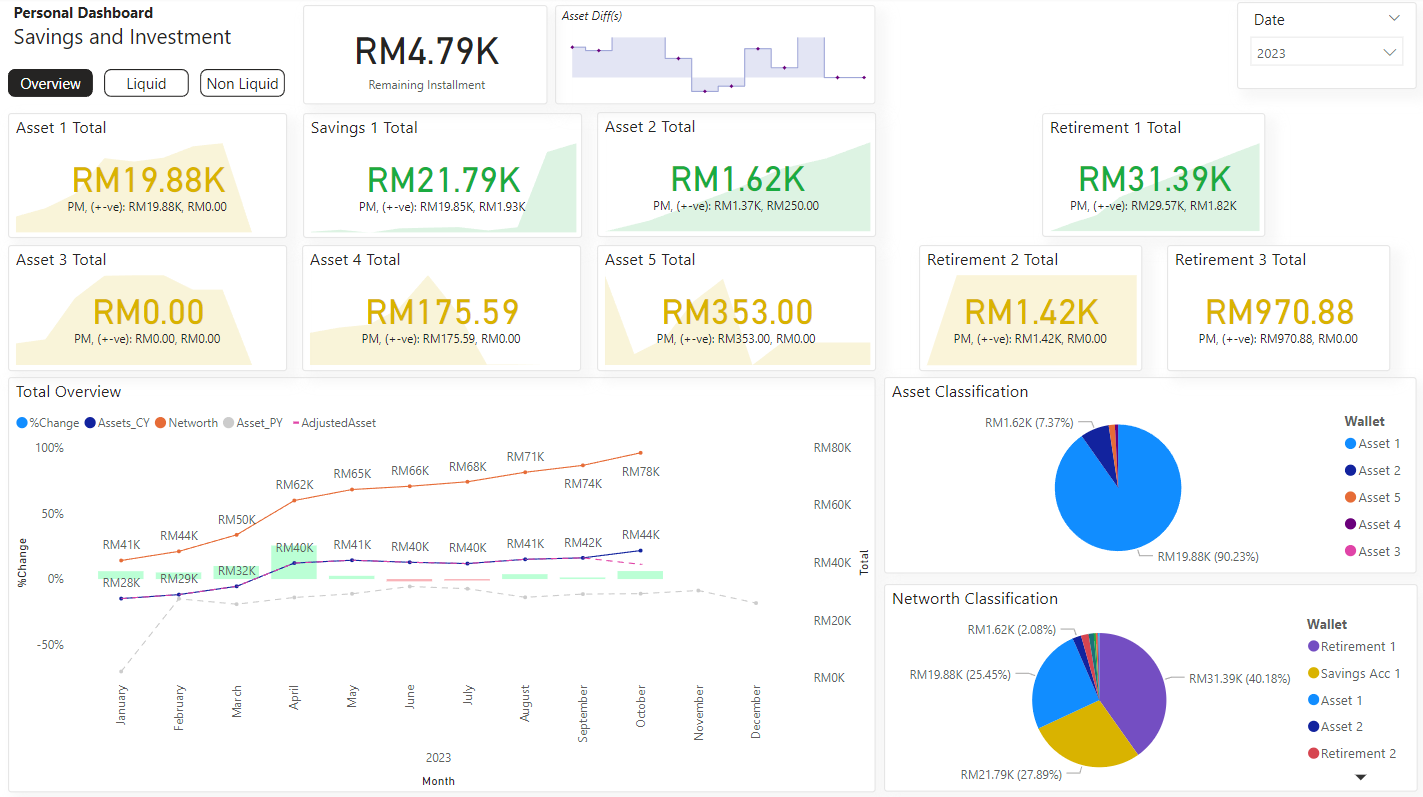

The page's visual inventory and layout, read from the dashboard file:
{"tool":"powerbi","page":{"name":"Savings + Investment","canvas":[1280,720],"ordinal":1},"visuals":[{"type":"textbox","box":[8,0,271,64.4],"z":0},{"type":"slicer","title":"Slicer2","fields":{"Values":["CentralDate_NoAdd.Date.Variation.Date Hierarchy.Year","CentralDate_NoAdd.Date.Variation.Date Hierarchy.Month"]},"box":[1109.1,4.5,161,77.8],"z":1000},{"type":"lineStackedColumnComboChart","title":"Total Overview","fields":{"Y2":["Calc Table.NetWorth","Calc_SavingsInvestment.NetWorth_ALL","Calc_SavingsInvestment.NetWorth_PY","Calc_SavingsInvestment.AdjustedAsset"],"Y":["Calc Table.%Change_NetWorth"],"Category":["CentralDate_NoAdd.Date.Variation.Date Hierarchy.Year","CentralDate_NoAdd.Date.Variation.Date Hierarchy.Month"]},"box":[8,339.9,777.2,372.1],"z":2000},{"type":"kpi","title":"Asset 1 Total","fields":{"Indicator":["Calc_SavingsInvestment.DAX_TEST"],"Goal":["Calc_SavingsInvestment.Cumulative_LM","Calc_SavingsInvestment.Cumulative_LMDIFF"],"TrendLine":["CentralDate_NoAdd.Date.Variation.Date Hierarchy.Month"]},"box":[8.2,103.7,250,112.2],"z":9000},{"type":"kpi","title":"Asset 2 Total","fields":{"Indicator":["Calc_SavingsInvestment.Cumulative_TM"],"Goal":["Calc_SavingsInvestment.Cumulative_LM","Calc_SavingsInvestment.Cumulative_LMDIFF"],"TrendLine":["CentralDate_NoAdd.Date.Variation.Date Hierarchy.Month"]},"box":[535.4,103.3,250,112],"z":10000},{"type":"kpi","title":"Savings 1 Total","fields":{"Indicator":["Calc_SavingsInvestment.Cumulative_TM"],"Goal":["Calc_SavingsInvestment.Cumulative_LM","Calc_SavingsInvestment.Cumulative_LMDIFF"],"TrendLine":["CentralDate_NoAdd.Date.Variation.Date Hierarchy.Month"]},"box":[271.9,103.7,250,112.2],"z":11000},{"type":"kpi","title":"Asset 5 Total","fields":{"Indicator":["Calc_SavingsInvestment.Cumulative_TM"],"Goal":["Calc_SavingsInvestment.Cumulative_LM","Calc_SavingsInvestment.Cumulative_LMDIFF"],"TrendLine":["CentralDate_NoAdd.Date.Variation.Date Hierarchy.Month"]},"box":[535.5,221.7,250,112.5],"z":12000},{"type":"kpi","title":"Asset 4 Total","fields":{"Indicator":["Calc_SavingsInvestment.Cumulative_TM"],"Goal":["Calc_SavingsInvestment.Cumulative_LM","Calc_SavingsInvestment.Cumulative_LMDIFF"],"TrendLine":["CentralDate_NoAdd.Date.Variation.Date Hierarchy.Month"]},"box":[271.7,222.2,250,112.5],"z":13000},{"type":"kpi","title":"Retirement 1 Total","fields":{"Indicator":["Calc_SavingsInvestment.Cumulative_TM"],"Goal":["Calc_SavingsInvestment.Cumulative_LM","Calc_SavingsInvestment.Cumulative_LMDIFF"],"TrendLine":["CentralDate_NoAdd.Date.Variation.Date Hierarchy.Month"]},"box":[934,104,200,110.9],"z":14000},{"type":"kpi","title":"Retirement 2 Total","fields":{"Indicator":["Calc_SavingsInvestment.Cumulative_TM"],"Goal":["Calc_SavingsInvestment.Cumulative_LM","Calc_SavingsInvestment.Cumulative_LMDIFF"],"TrendLine":["CentralDate_NoAdd.Date.Variation.Date Hierarchy.Month"]},"box":[824.1,222,200,112.7],"z":15000},{"type":"kpi","title":"Asset 3 Total","fields":{"Indicator":["Calc_SavingsInvestment.Cumulative_TM"],"Goal":["Calc_SavingsInvestment.Cumulative_LM","Calc_SavingsInvestment.Cumulative_LMDIFF"],"TrendLine":["CentralDate_NoAdd.Date.Variation.Date Hierarchy.Month"]},"box":[8,221.7,250,112.5],"z":17000},{"type":"pieChart","title":"Asset Classification","fields":{"Y":["Calc_SavingsInvestment.WalletSum1"],"Category":["InvestData.Wallet"]},"box":[792.5,340.3,477.3,176.4],"z":19000},{"type":"pieChart","title":"Networth Classification","fields":{"Y":["Calc_SavingsInvestment.WalletSum1"],"Category":["InvestData.Wallet"]},"box":[792.4,525.9,477.6,186],"z":20000},{"type":"kpi","title":"Retirement 3 Total","fields":{"Indicator":["Calc_SavingsInvestment.Cumulative_TM"],"Goal":["Calc_SavingsInvestment.Cumulative_LM","Calc_SavingsInvestment.Cumulative_LMDIFF"],"TrendLine":["CentralDate_NoAdd.Date.Variation.Date Hierarchy.Month"]},"box":[1045.9,222,200,112.7],"z":21000},{"type":"areaChart","title":"Asset Diff(s)","fields":{"Category":["CentralDate_NoAdd.Date.Variation.Date Hierarchy.Year","CentralDate_NoAdd.Date.Variation.Date Hierarchy.Month"],"Y":["Calc_SavingsInvestment.NetWorth_Diff"]},"box":[498.2,7.3,287.3,89.1],"z":23000},{"type":"card","fields":{"Values":["Sum(Instalments.RemainingValue)"]},"box":[272.2,7.2,219.4,88.7],"z":24000},{"type":"bookmarkNavigator","box":[8.1,64.5,249.9,25.1],"z":25000}]}

Visuals, with their boxes in screenshot pixels (x1, y1, x2, y2), scaled from the page's 1280x720 canvas onto the 1423x797 screenshot:
textbox: locate(9, 0, 310, 71)
"Slicer2" slicer: locate(1233, 5, 1412, 91)
"Total Overview" lineStackedColumnComboChart: locate(9, 376, 873, 788)
"Asset 1 Total" kpi: locate(9, 115, 287, 239)
"Asset 2 Total" kpi: locate(595, 114, 873, 238)
"Savings 1 Total" kpi: locate(302, 115, 580, 239)
"Asset 5 Total" kpi: locate(595, 245, 873, 370)
"Asset 4 Total" kpi: locate(302, 246, 580, 370)
"Retirement 1 Total" kpi: locate(1038, 115, 1261, 238)
"Retirement 2 Total" kpi: locate(916, 246, 1139, 370)
"Asset 3 Total" kpi: locate(9, 245, 287, 370)
"Asset Classification" pieChart: locate(881, 377, 1412, 572)
"Networth Classification" pieChart: locate(881, 582, 1412, 788)
"Retirement 3 Total" kpi: locate(1163, 246, 1385, 370)
"Asset Diff(s)" areaChart: locate(554, 8, 873, 107)
card - Sum(Instalments.RemainingValue): locate(303, 8, 547, 106)
bookmarkNavigator: locate(9, 71, 287, 99)
